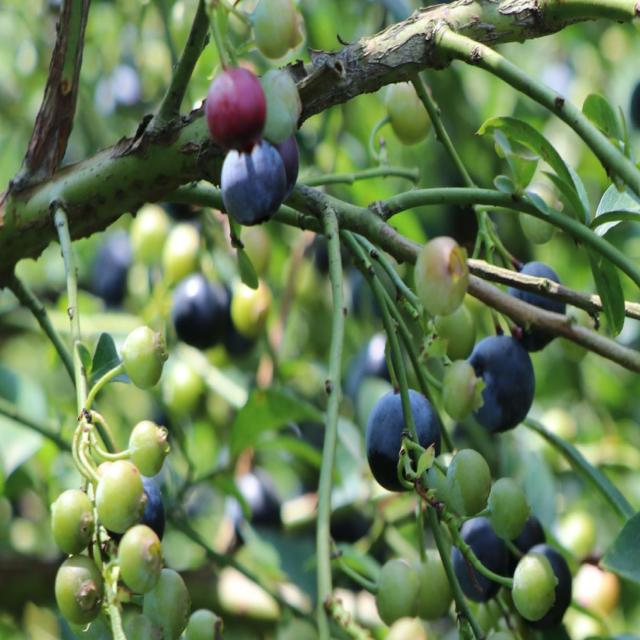blueberry: (364, 386, 442, 497), (466, 332, 534, 433), (506, 260, 567, 352), (221, 139, 286, 225), (516, 543, 576, 627), (450, 513, 506, 599), (169, 273, 230, 346), (137, 473, 166, 542), (272, 132, 300, 198)
blueberry-unripe: (411, 236, 468, 316), (206, 65, 264, 142), (54, 552, 107, 622), (94, 461, 143, 533), (116, 524, 166, 590), (444, 447, 490, 518), (248, 0, 306, 56), (388, 79, 433, 149), (143, 570, 190, 633), (123, 325, 165, 392), (50, 491, 96, 552), (259, 68, 302, 132), (378, 558, 417, 623), (440, 353, 476, 418), (130, 421, 169, 474), (491, 478, 529, 530), (186, 610, 217, 640)
